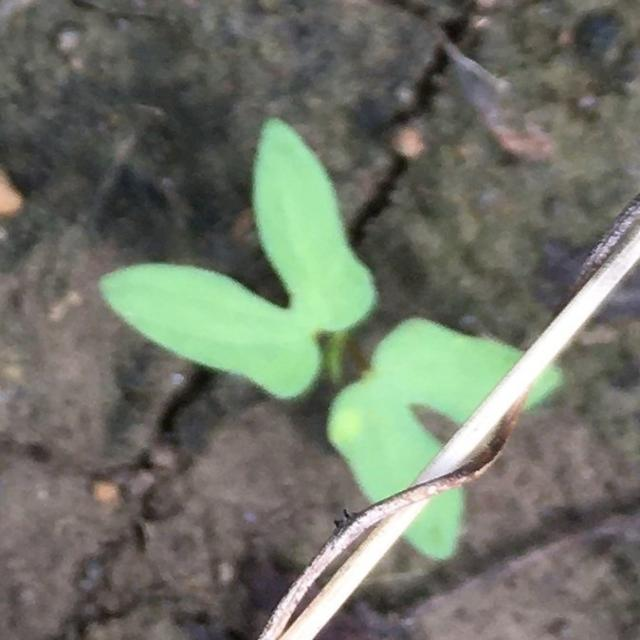MorningGlory: (98, 116, 567, 561)
